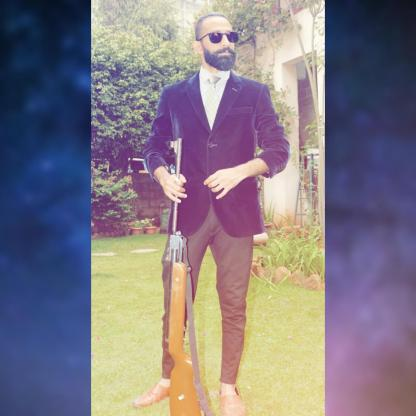rifle: (164, 135, 232, 414)
